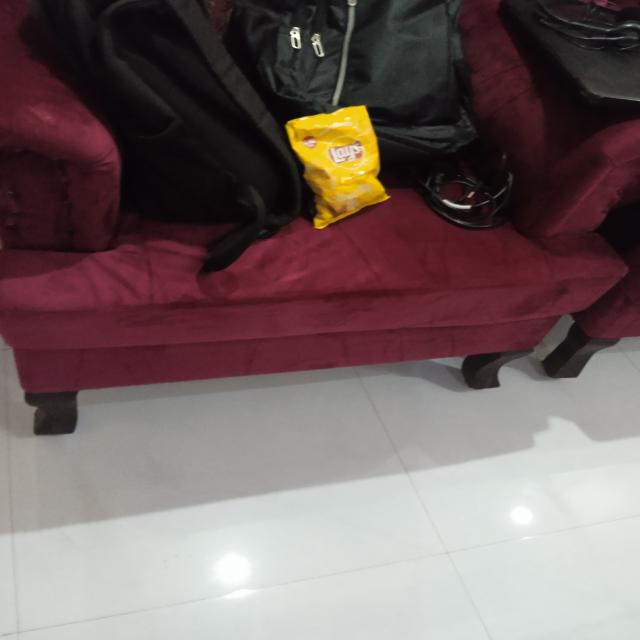Plastic: (279, 101, 402, 237)
